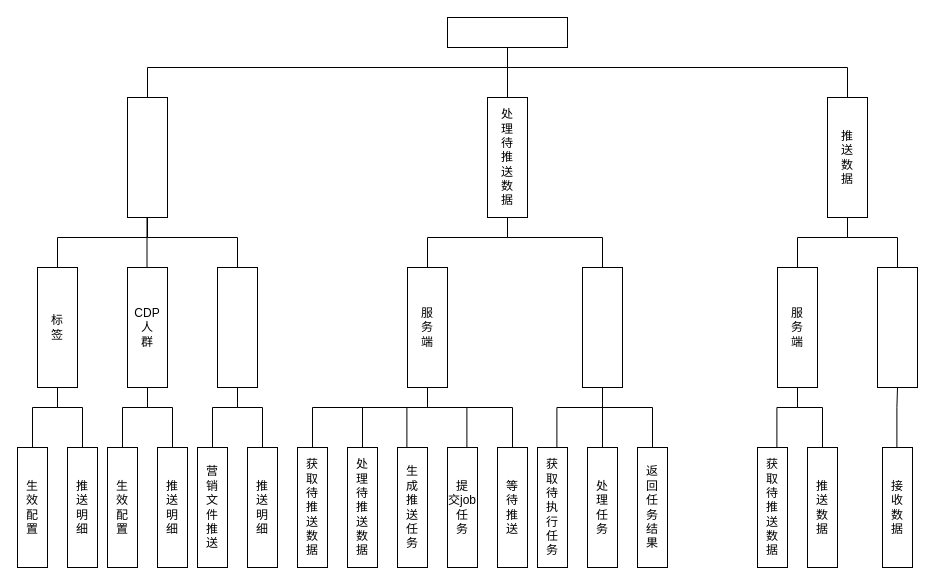
Image size: 935x585. Some labels were removed from this diagram. The box of each missing label's shape, as (x1, y1, x2, y2) in pixels:
a z k a b a n: (582, 266, 622, 388)
EZR 系 统: (876, 266, 918, 388)
EZR对接配置管理: (446, 16, 568, 48)
创 建 待 推 送 数 据: (126, 96, 168, 218)
营 销 人 群: (216, 266, 258, 388)
